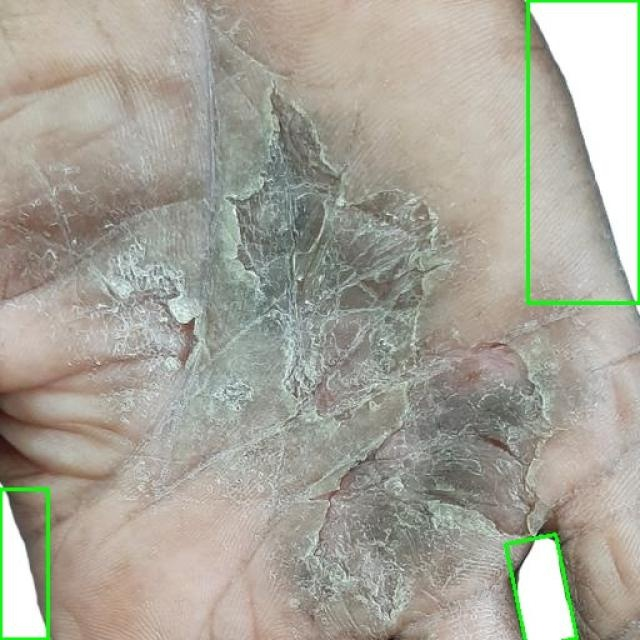Contact Dermatitis: (528, 0, 639, 304), (506, 534, 577, 640), (0, 489, 48, 639)
